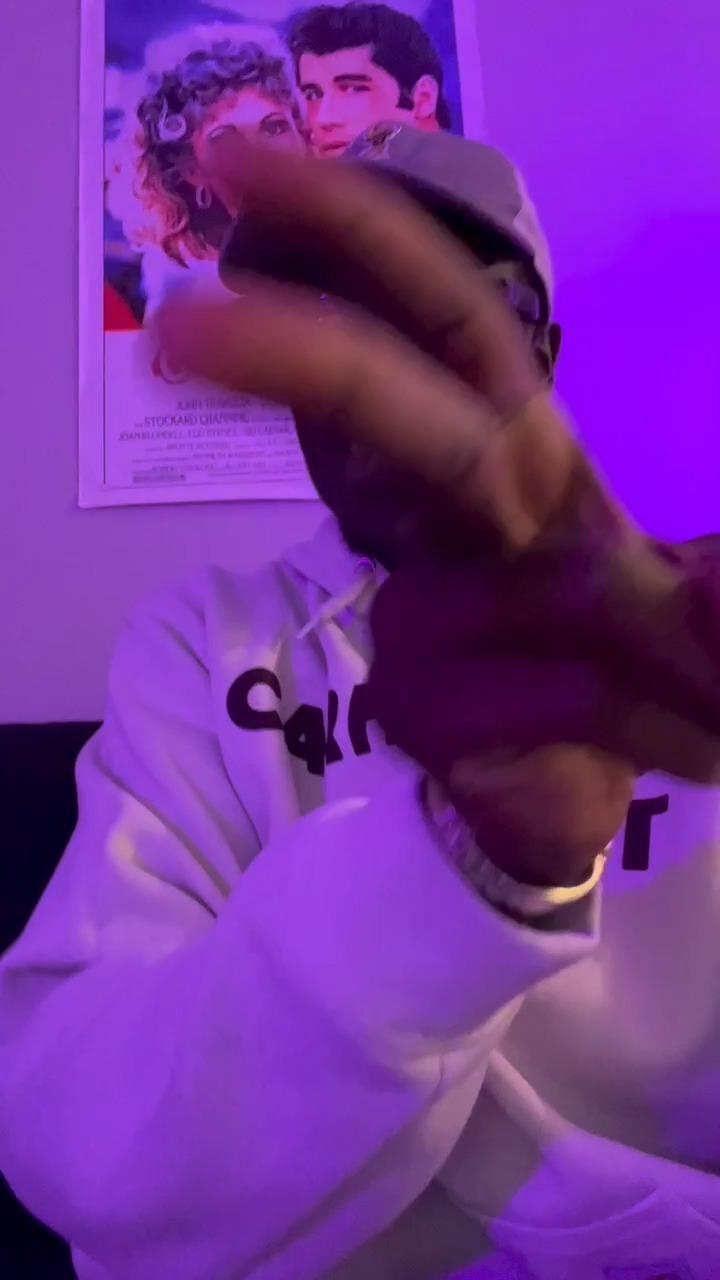Scissors: (148, 134, 720, 825)
